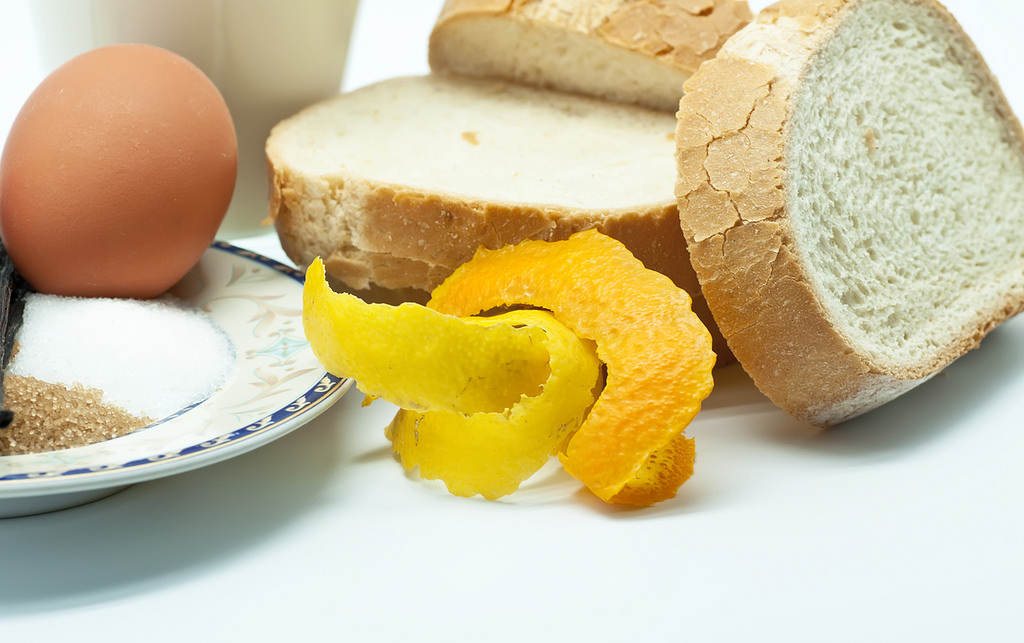slice of bread: (686, 36, 1011, 367), (265, 87, 706, 282), (432, 5, 770, 98)
